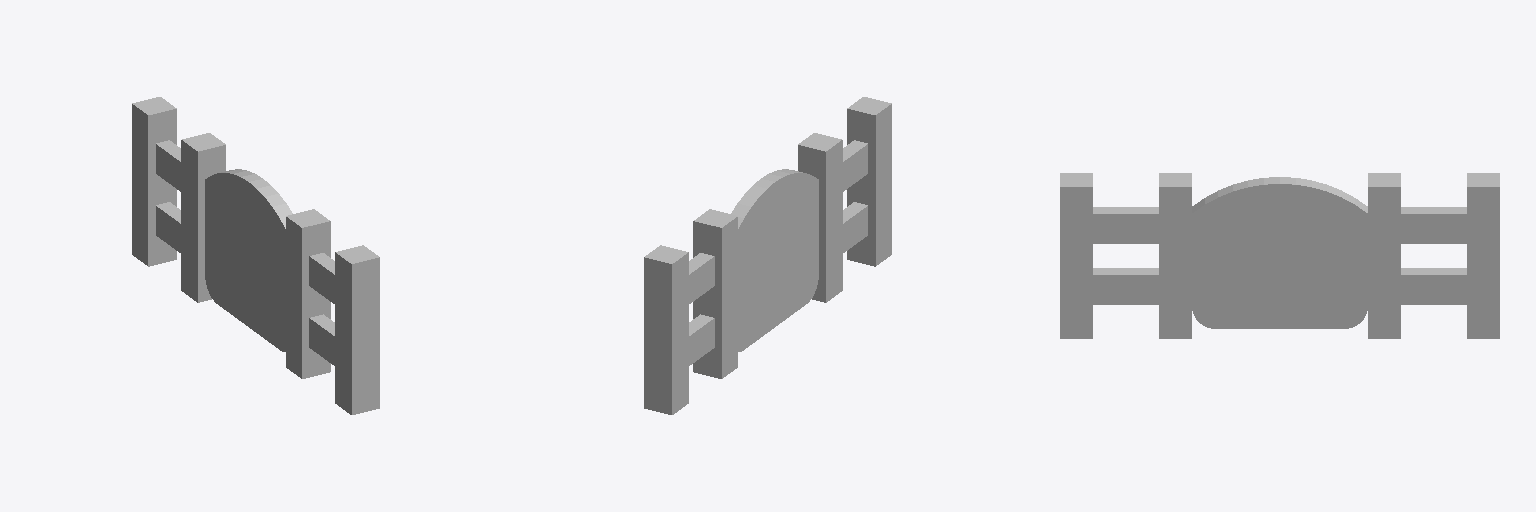
Rendered from fenceGate.obj.
3 views of the same model, side by side, from view 1: azimuth 30°, elevation 25°; view 2: azimuth 150°, elevation 25°; view 3: azimuth 270°, elevation 25° (orthographic).
Visible parts, largest first — view 1: fenceGate, gate; view 2: fenceGate, gate; view 3: fenceGate, gate.
Part boxes in pixels (x1,y1,x2,y2): fenceGate: (132, 97, 379, 414); gate: (205, 169, 292, 351); fenceGate: (644, 97, 891, 414); gate: (731, 169, 818, 351); fenceGate: (1060, 173, 1499, 338); gate: (1192, 177, 1367, 328).
Size of the model in its own units: 0.075 by 0.38 by 1.